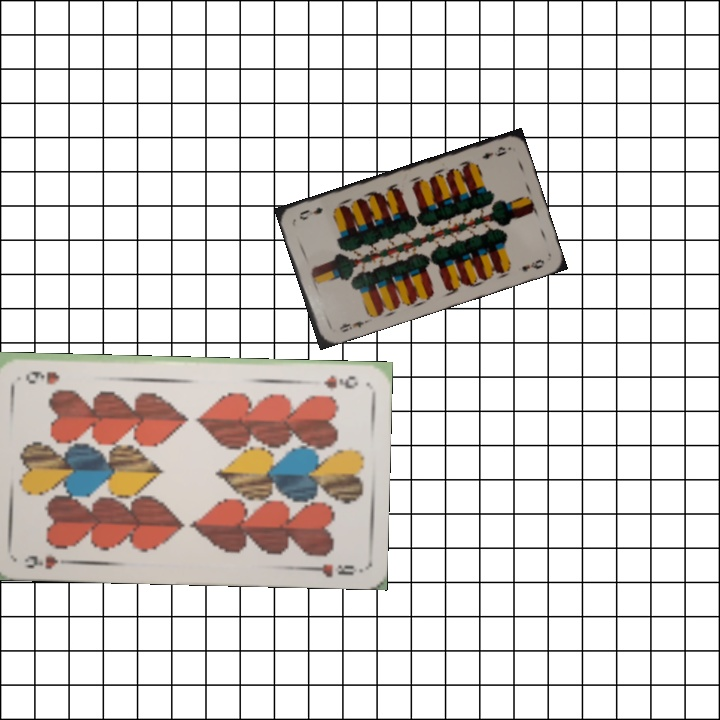E9: (335, 316, 370, 335), (478, 142, 509, 162)
H9: (20, 551, 71, 572), (320, 371, 361, 392)
